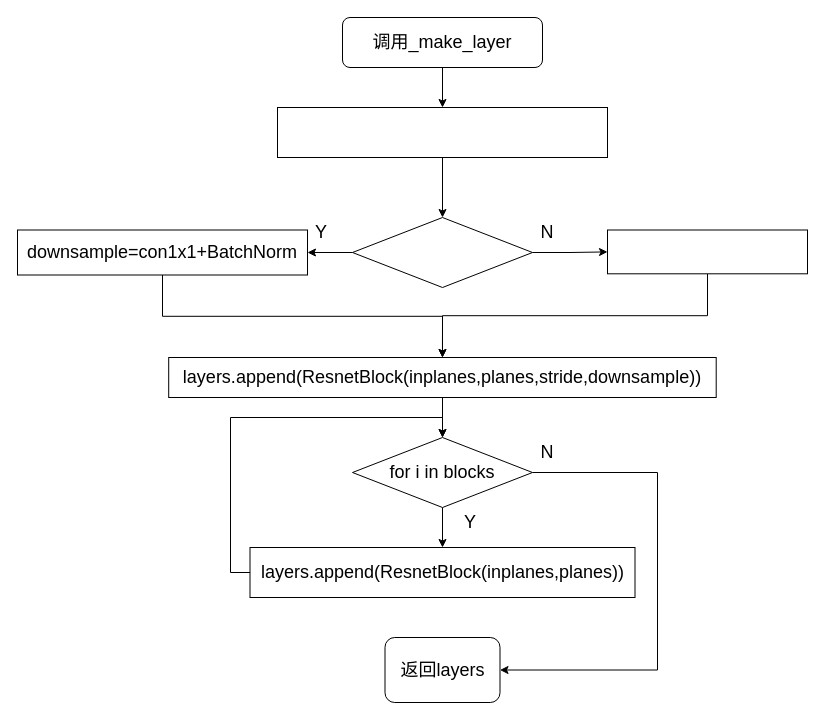
Some shapes in this 825 by 720 pixel diagram are drawn without their labels. The centre of each missing label's shape, as x and y in pixels:
"_make_layer(self,planes,blocks,stride)" goes at (442,132).
"downsample=None" goes at (707,251).
"第一个block？" goes at (442,252).
